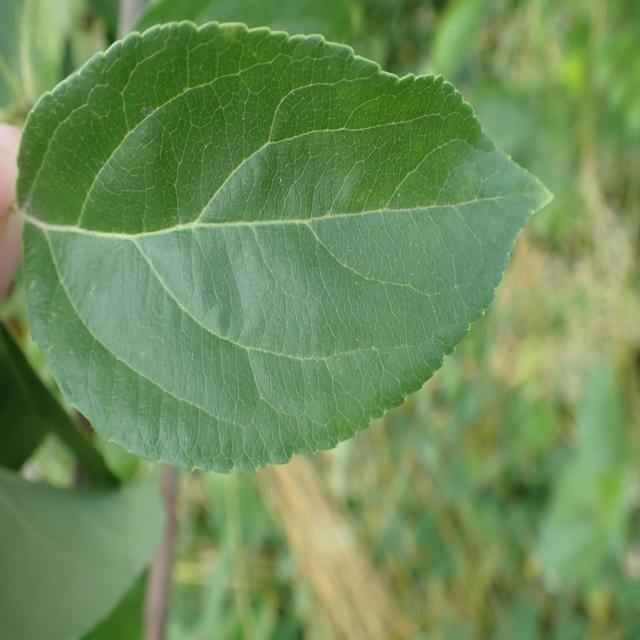healthy: (16, 20, 556, 474)
